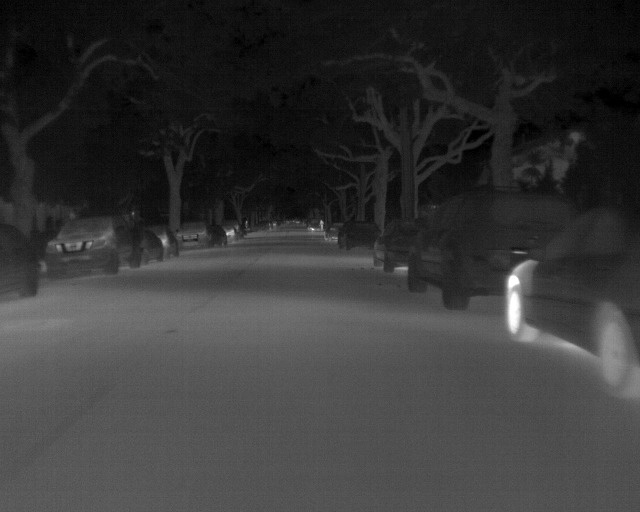vehicle: (505, 202, 638, 389), (410, 194, 534, 307), (42, 207, 143, 282), (176, 221, 228, 247)
